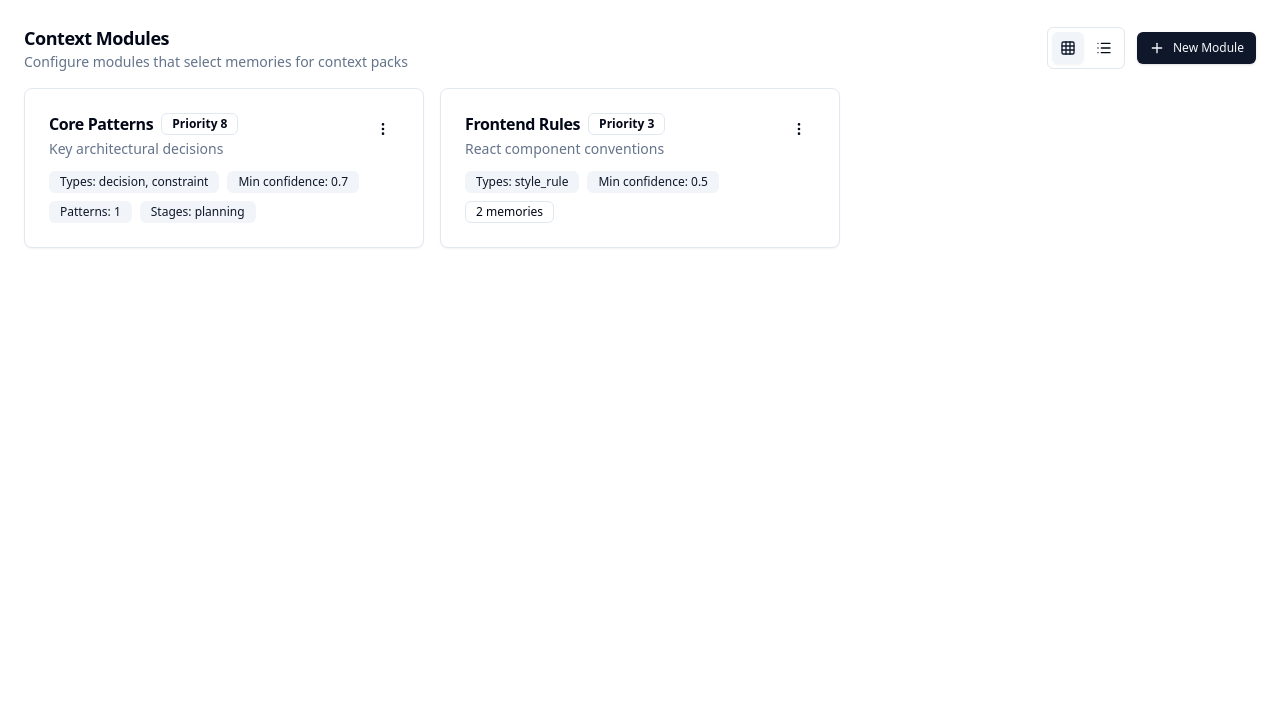
Test: ContextModulesTab › Create Module Flow › closes dialog when cancel button is clicked
Click the button "New Module" at (1196,48), box top-left (1137, 32), bottom-right (1256, 64)
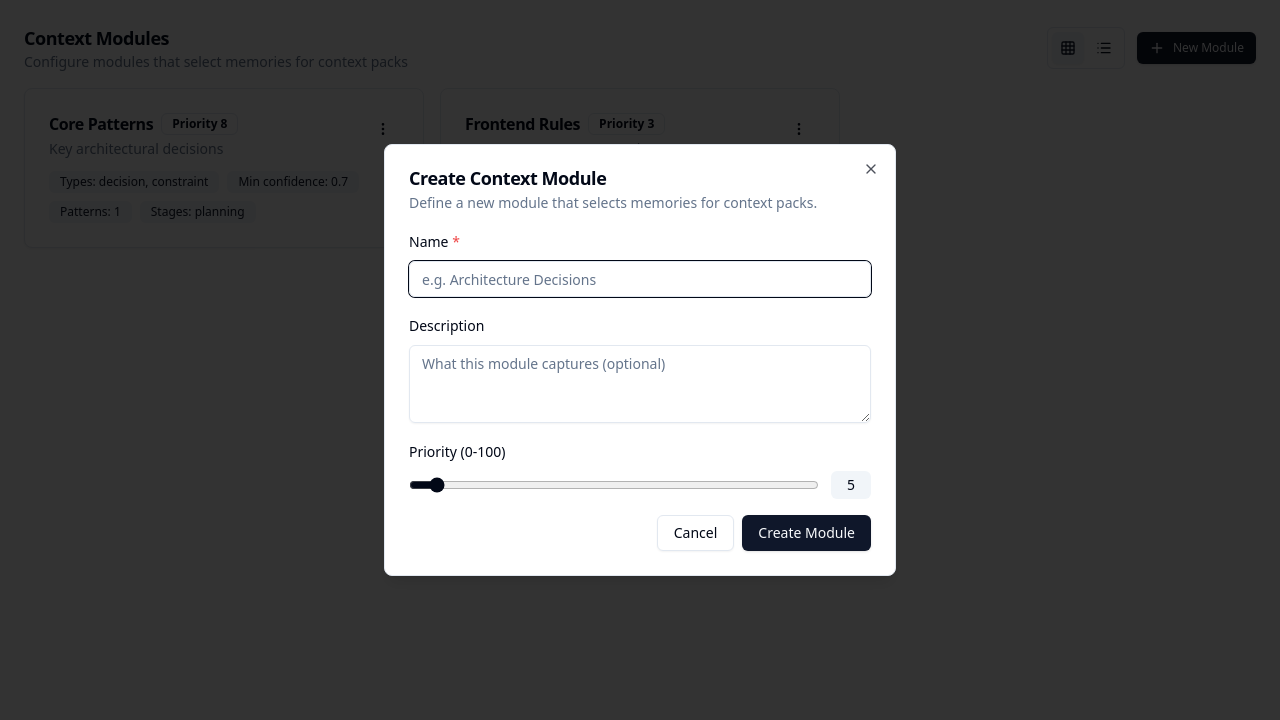
Expected: the heading "Create Context Module" is shown, top-left (409, 166), bottom-right (606, 190)
Click the button "Cancel" at (696,533), box top-left (657, 515), bottom-right (734, 551)
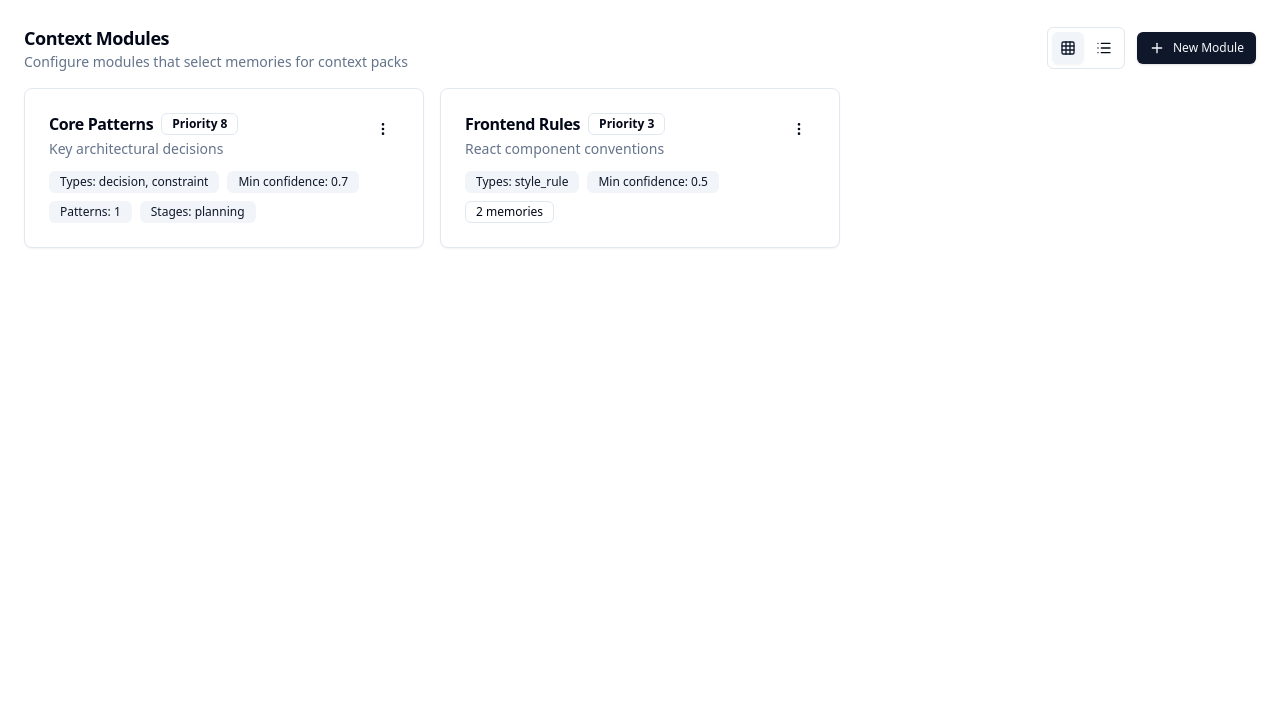
Expected: the text "Define a new module" is gone
